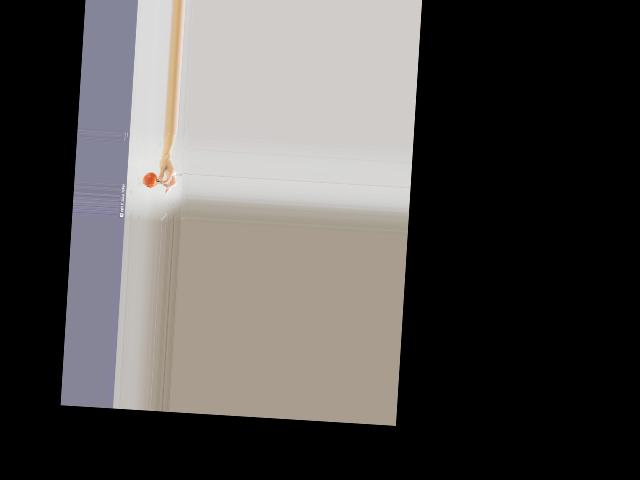tomato: (141, 170, 157, 187)
